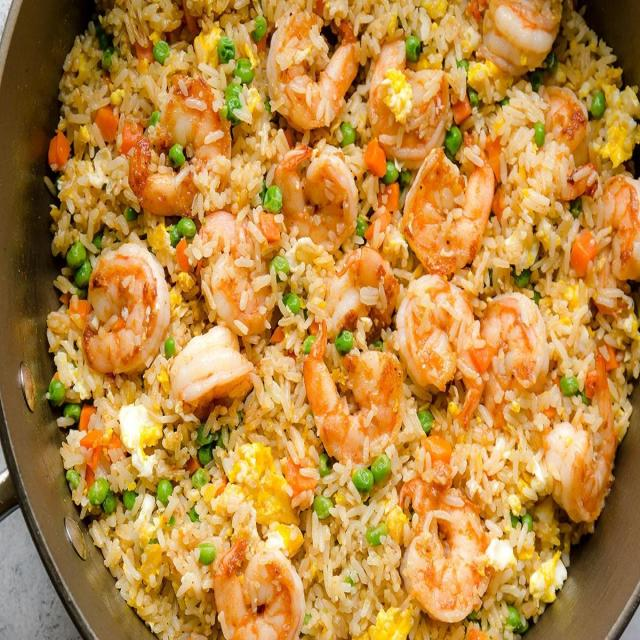Nasi Goreng: (43, 1, 637, 637)
